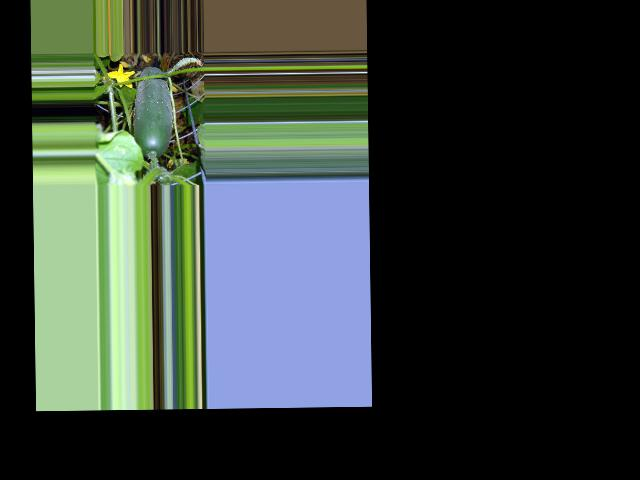cucumber: (133, 67, 174, 158)
